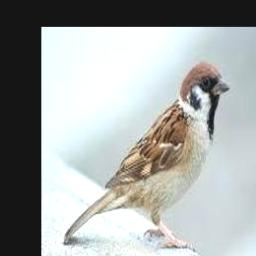Sparrow: (64, 60, 228, 248)
